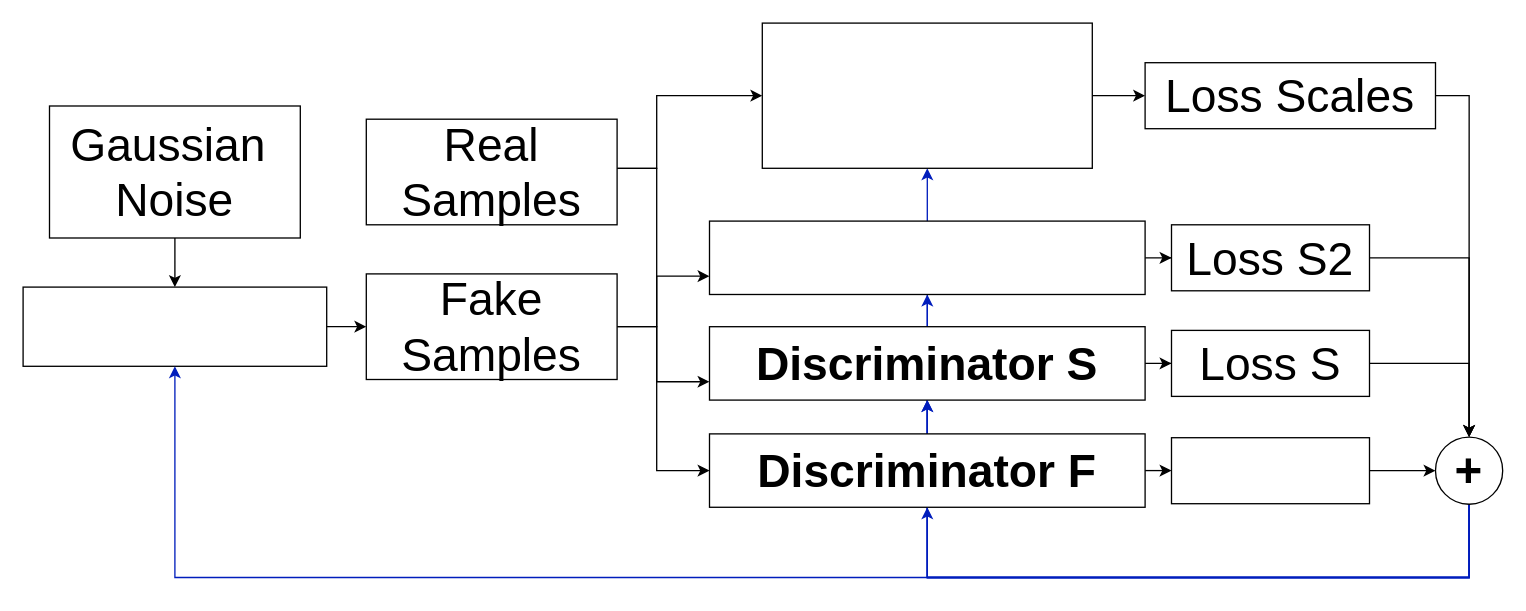
Some shapes in this 1526 by 611 pixel diagram are drawn without their labels. The centre of each missing label's shape, as x and y in pixels:
"Discriminator S2" goes at point (926, 257).
"Discriminator Scale" goes at point (926, 95).
"Generator" goes at point (174, 326).
"Loss F" goes at point (1270, 470).
